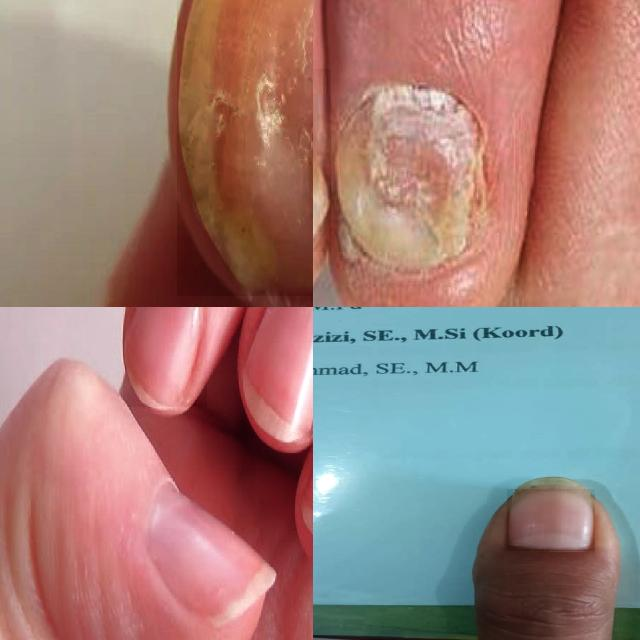diabetes: (334, 93, 482, 274)
sehat: (148, 485, 275, 627), (242, 307, 313, 437), (124, 307, 207, 407), (507, 489, 595, 551)
